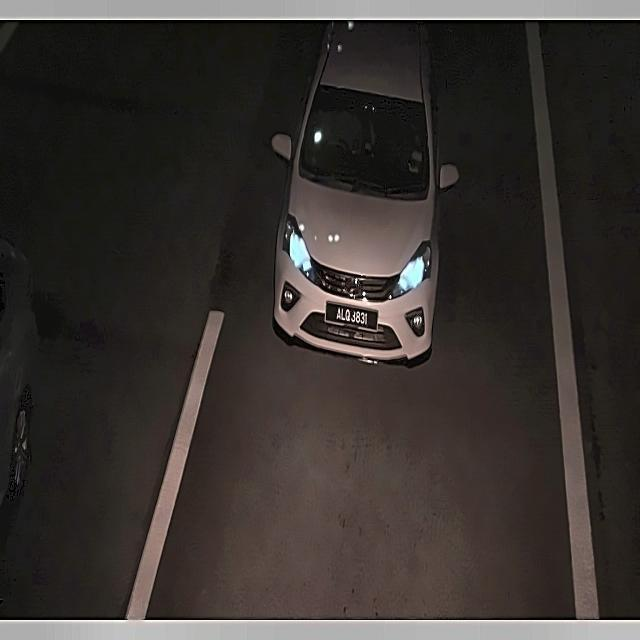car: (325, 301, 379, 335)
